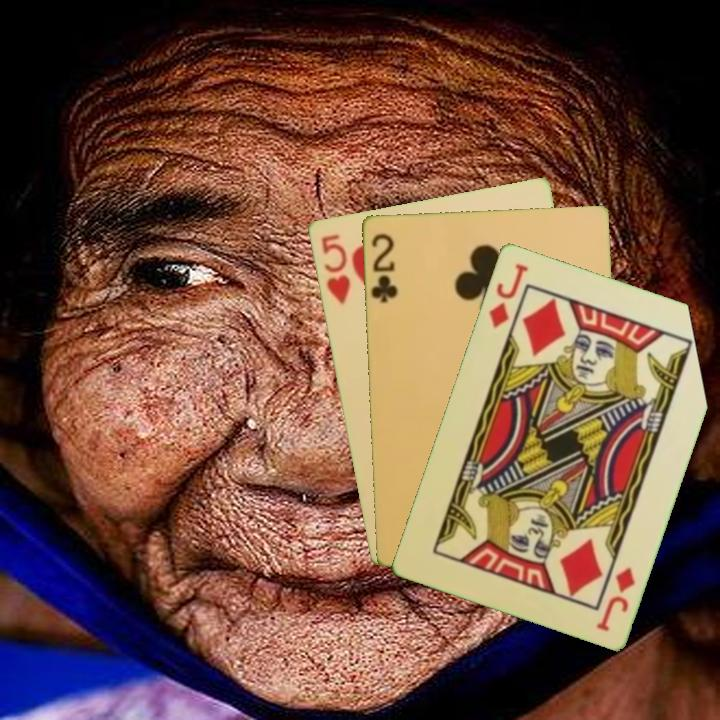2c: (367, 229, 400, 306)
5h: (317, 230, 353, 307)
Jd: (485, 259, 531, 331), (592, 563, 638, 634)
